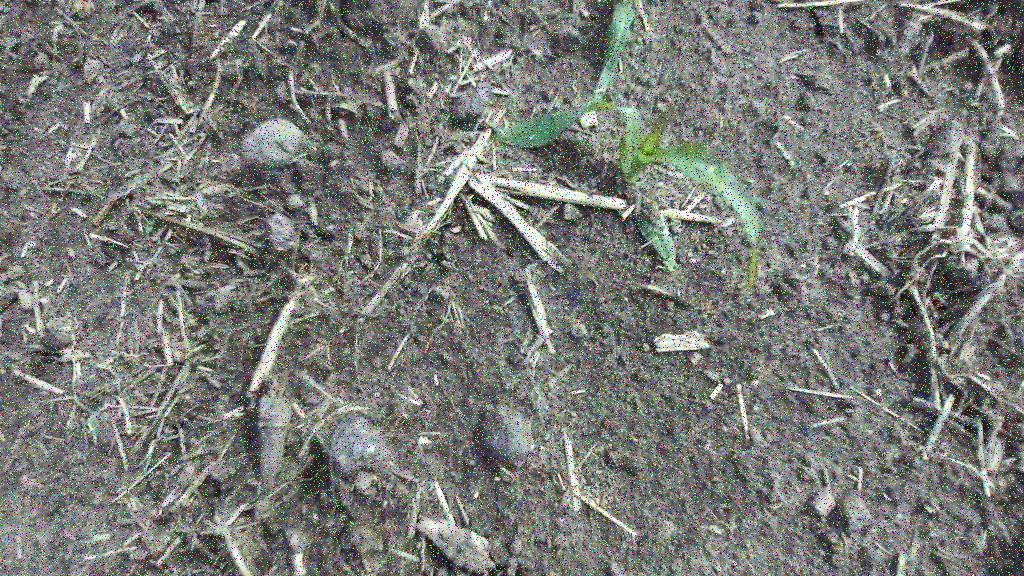BroWeed: (87, 408, 100, 444), (144, 218, 155, 233), (439, 316, 450, 323)
Maize: (488, 36, 808, 315)
